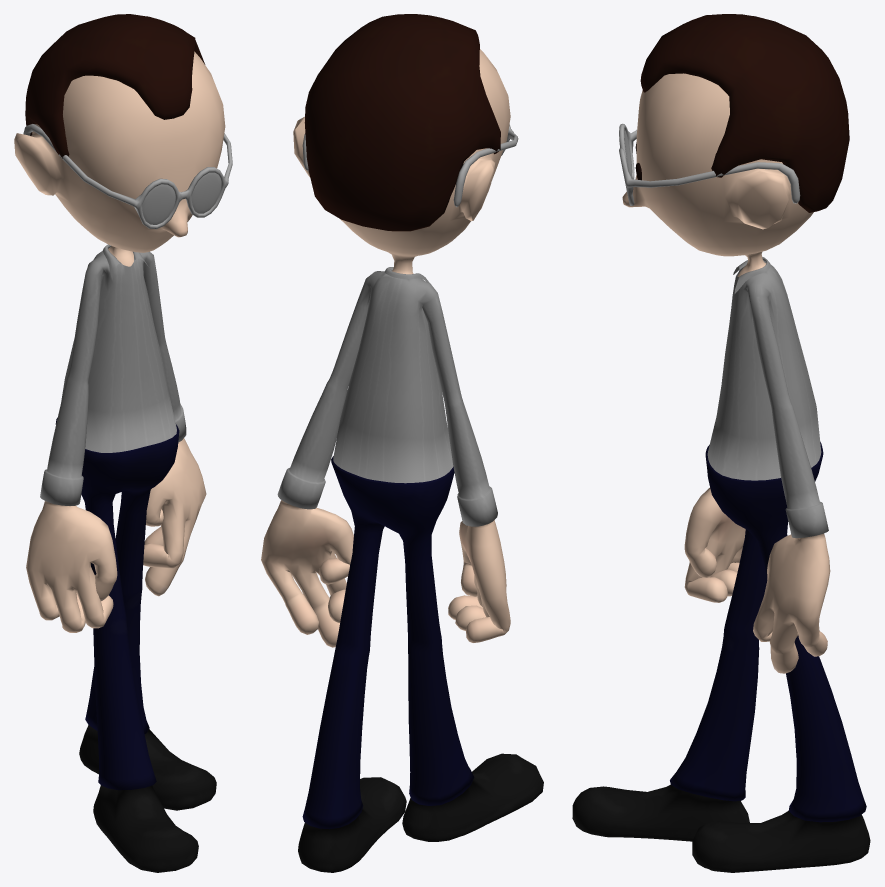
The model's file is Animation_Cartoon_Starter_000253.obj.
3 views of the same model, side by side, from view 1: azimuth 30°, elevation 25°; view 2: azimuth 150°, elevation 25°; view 3: azimuth 270°, elevation 25° (orthographic). The views are drawn at different scales.
Parts seen in each view (by area): view 1: bm_09; view 2: bm_09; view 3: bm_09.
Part boxes in pixels (<box>): bm_09: <box>14,14,232,872</box>; bm_09: <box>261,14,543,872</box>; bm_09: <box>572,14,870,872</box>.
Size of the model in its own units: 0.413 by 1.51 by 0.4987.
Materials: 3 (1 with a texture image).
